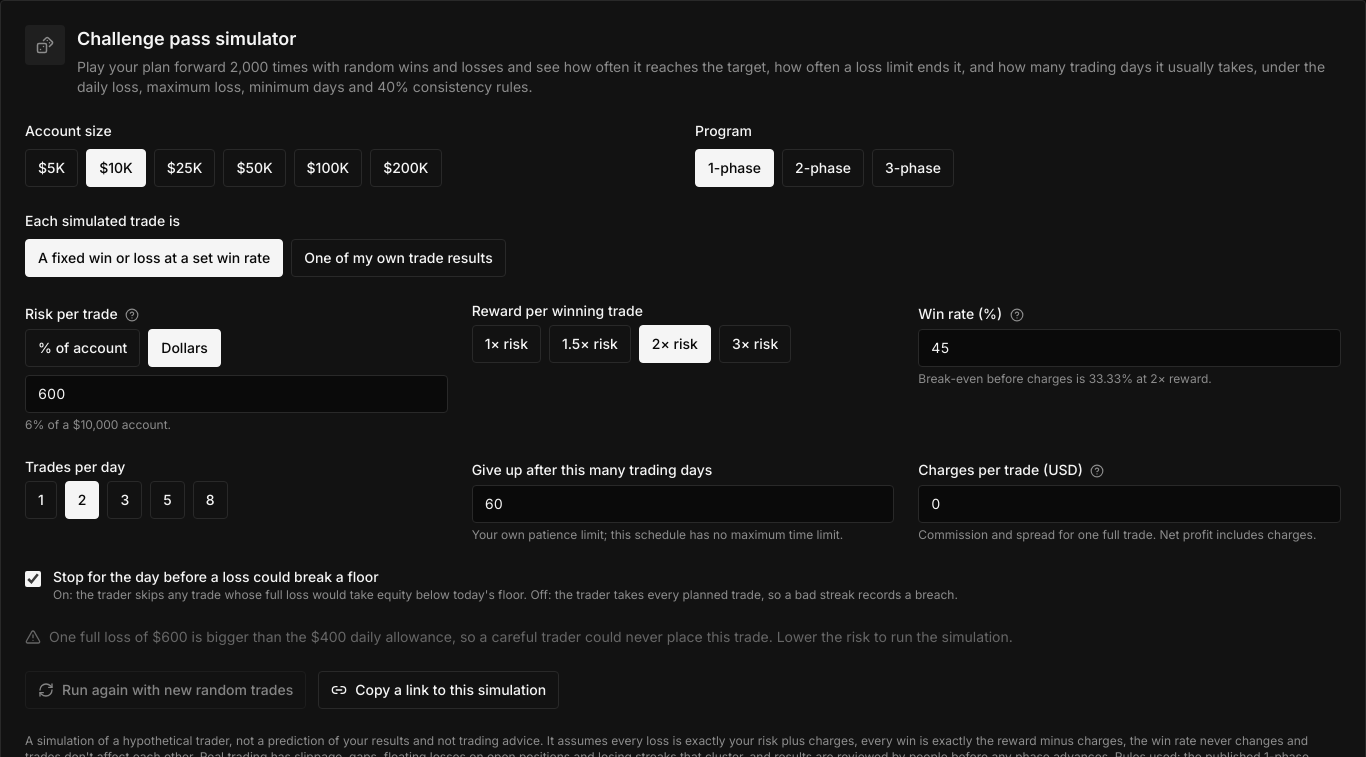
Test: challenge simulator widget › explains when a single loss is bigger than the daily allowance
Expected: the message shows "bigger than the $400 daily allowance", [25,628,1013,645]
Expected: the button "Run again with new random trades" is disabled, [25,671,306,709]
Click the checkbox labelled "Stop for the day" at (33, 579), box [25,571,41,587]
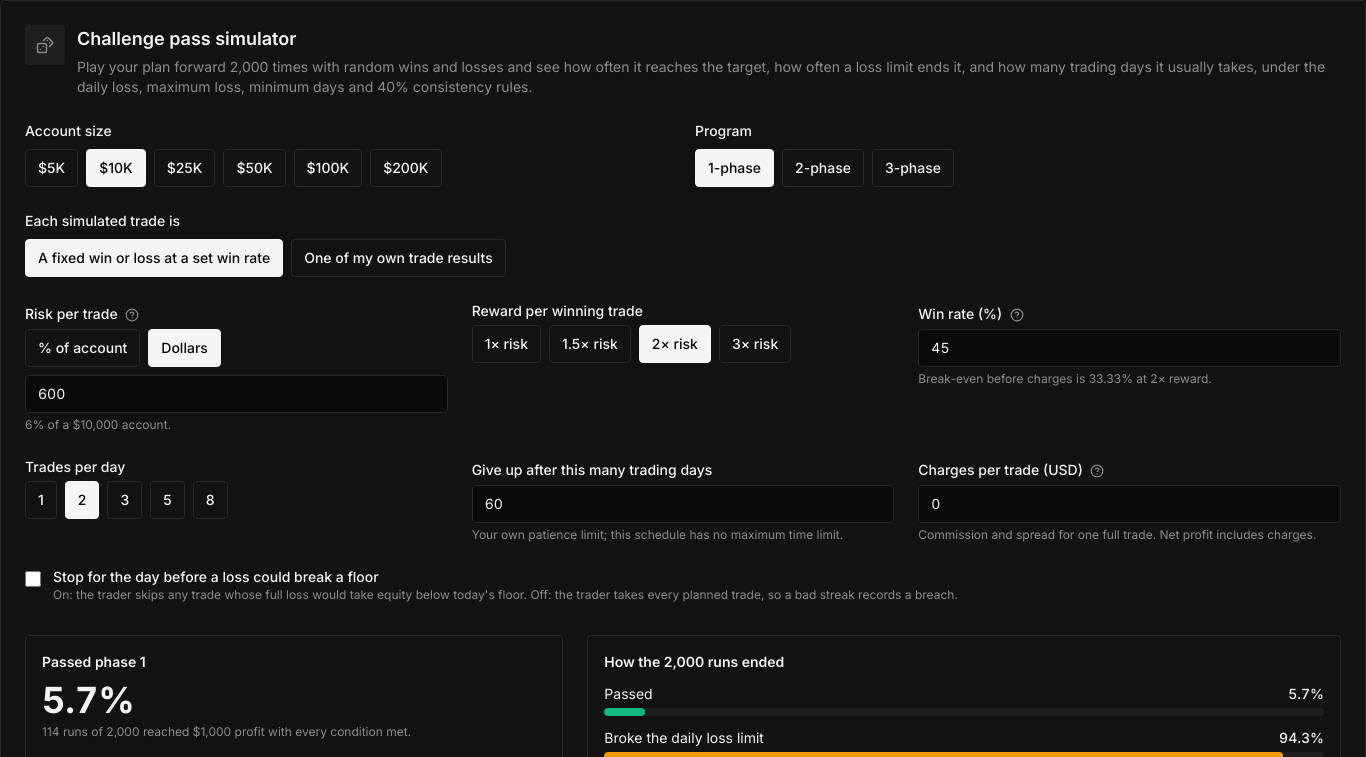
Now the message is gone
Now the text "Broke the daily loss limit" is shown, box [604,728,764,748]
